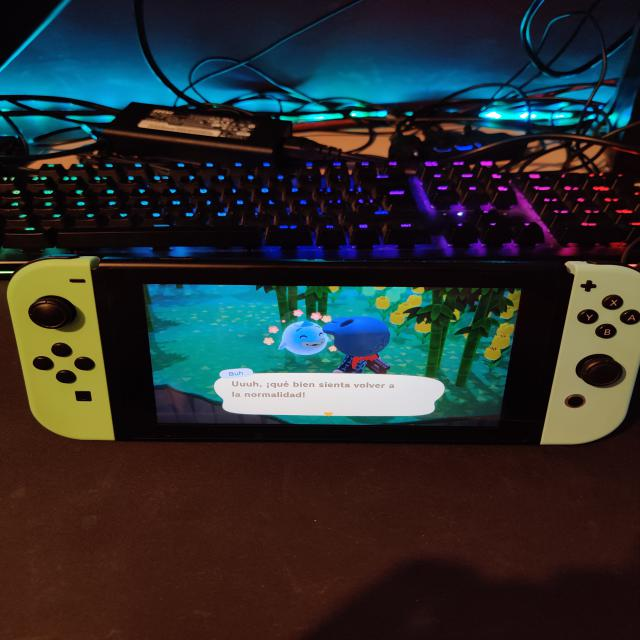text_bubble: (214, 368, 448, 419)
